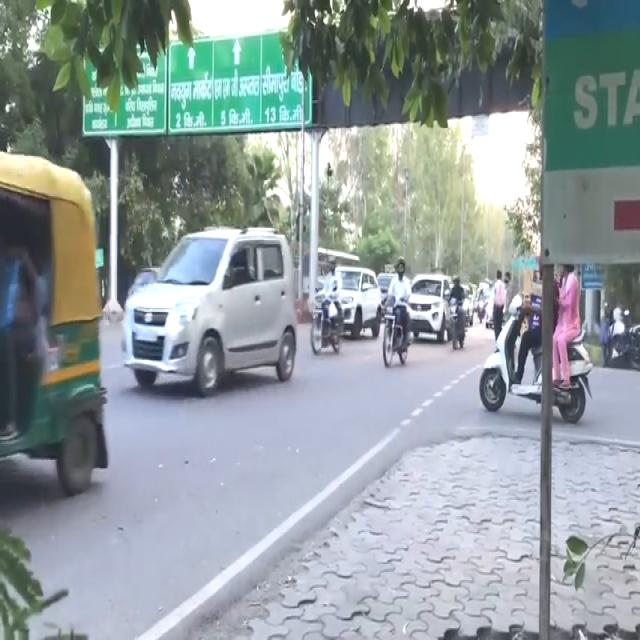MOTORCYCLE: (482, 304, 594, 422), (378, 299, 410, 370), (312, 292, 346, 358), (448, 296, 466, 350)
SUV: (123, 219, 297, 389)
